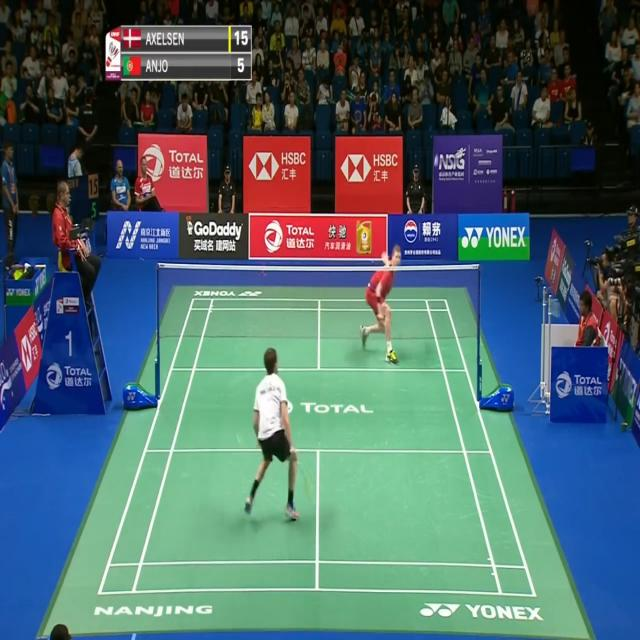Player1: (239, 334, 305, 532)
Player2: (356, 236, 409, 374)
